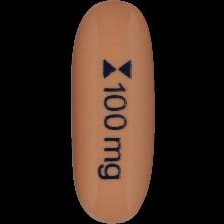55154-6349: (0, 0, 224, 224)
